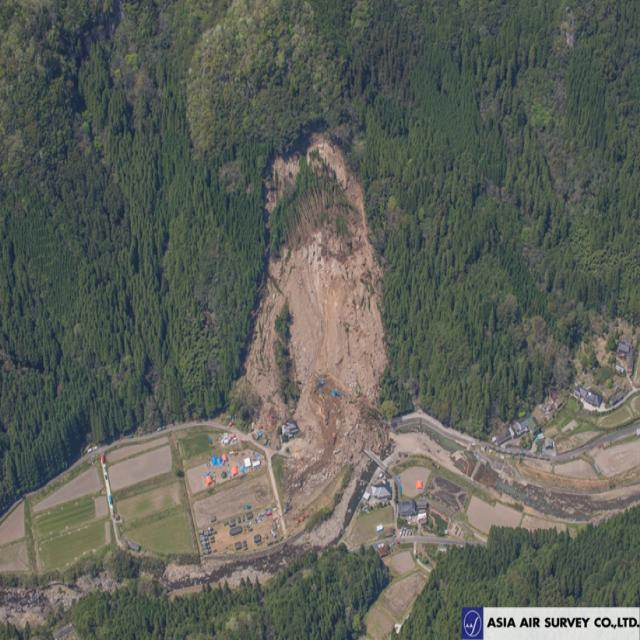Debris-flow: (244, 135, 389, 548), (269, 158, 299, 209)
